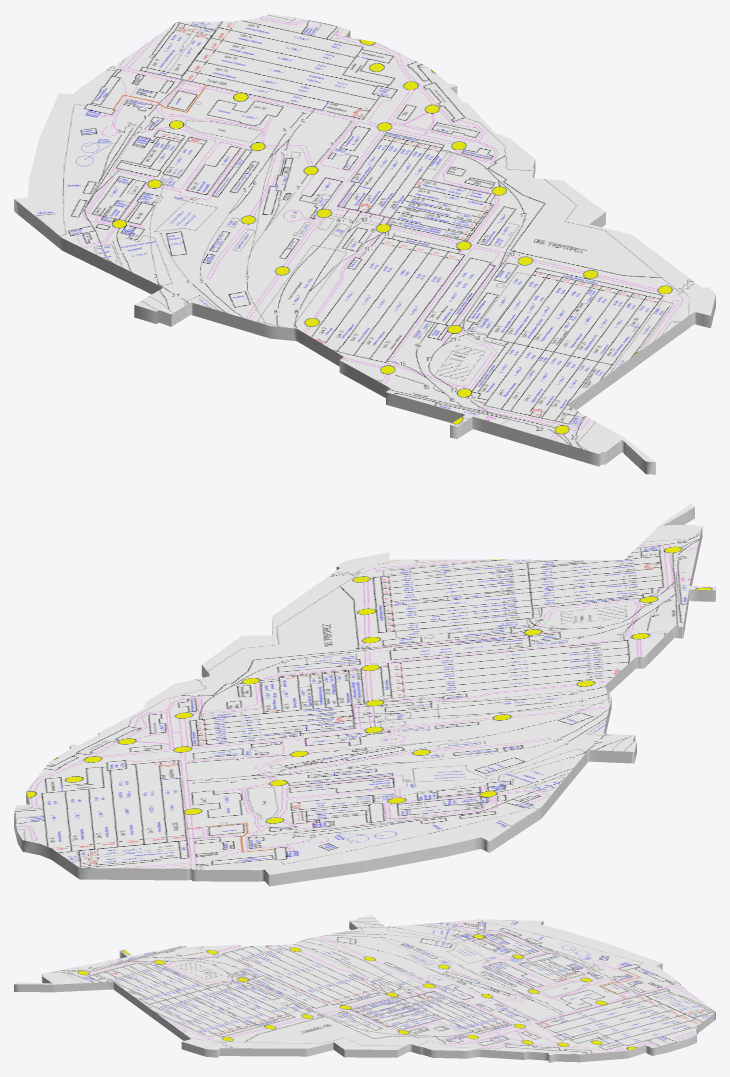
File: Plan_lod.fbx
The picture shows the model from 3 angles, top to bottom: view 1: azimuth 30°, elevation 25°; view 2: azimuth 150°, elevation 25°; view 3: azimuth 270°, elevation 25°; orthographic projection. The views are drawn at different scales.
Parts seen in each view (by area): view 1: Plan_top; view 2: Plan_top; view 3: Plan_top.
Boxes of the visible parts, x1,y1,x2,y2 form: Plan_top: [14, 14, 715, 474]; Plan_top: [14, 503, 715, 886]; Plan_top: [14, 915, 715, 1062].
Size of the model in its own units: 24.86 by 0.6432 by 52.7.
